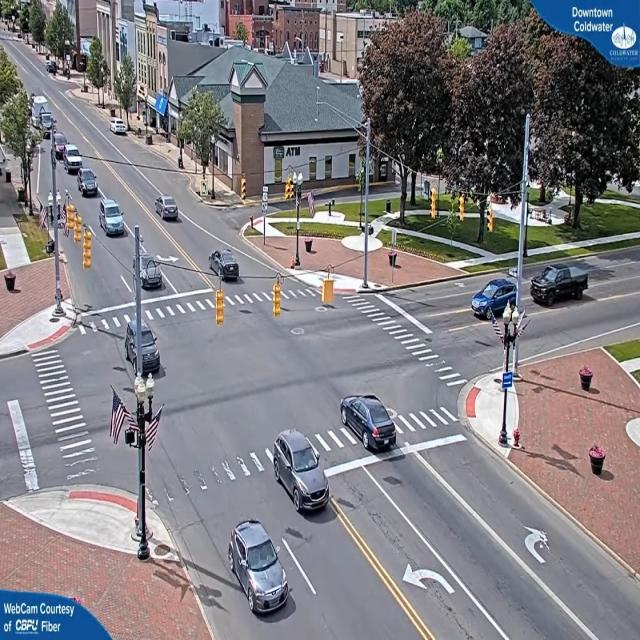car: (228, 522, 291, 618), (272, 428, 330, 517), (341, 396, 399, 454), (530, 266, 594, 307), (472, 279, 519, 322), (100, 198, 129, 238), (211, 249, 242, 282), (156, 196, 179, 221), (80, 168, 98, 195), (110, 120, 129, 136)
